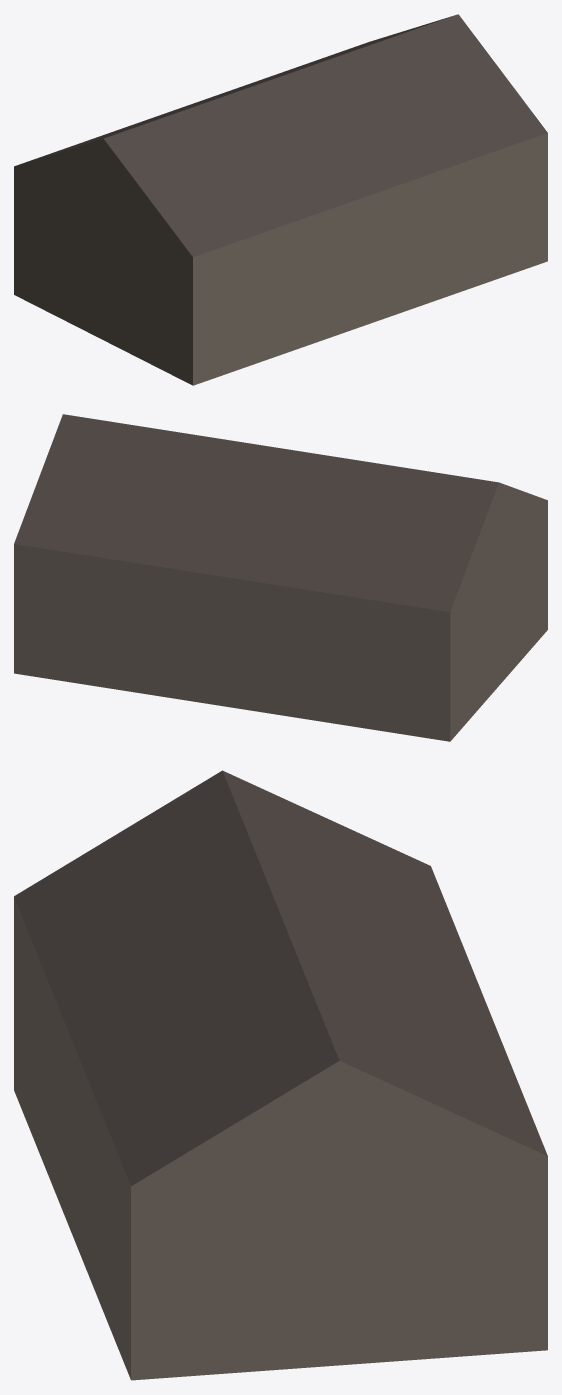
3 renders of one model, top to bottom at view 1: azimuth 30°, elevation 25°; view 2: azimuth 150°, elevation 25°; view 3: azimuth 270°, elevation 25°, orthographic. The views are drawn at different scales.
Parts seen in each view (by area): view 1: HP-w1376988715; view 2: HP-w1376988715; view 3: HP-w1376988715.
Part boxes in pixels (<box>): HP-w1376988715: <box>14,14,547,385</box>; HP-w1376988715: <box>14,414,547,741</box>; HP-w1376988715: <box>14,770,547,1380</box>.
Bounding box in the file's own units: 21.26 × 9.42 × 14.97.
